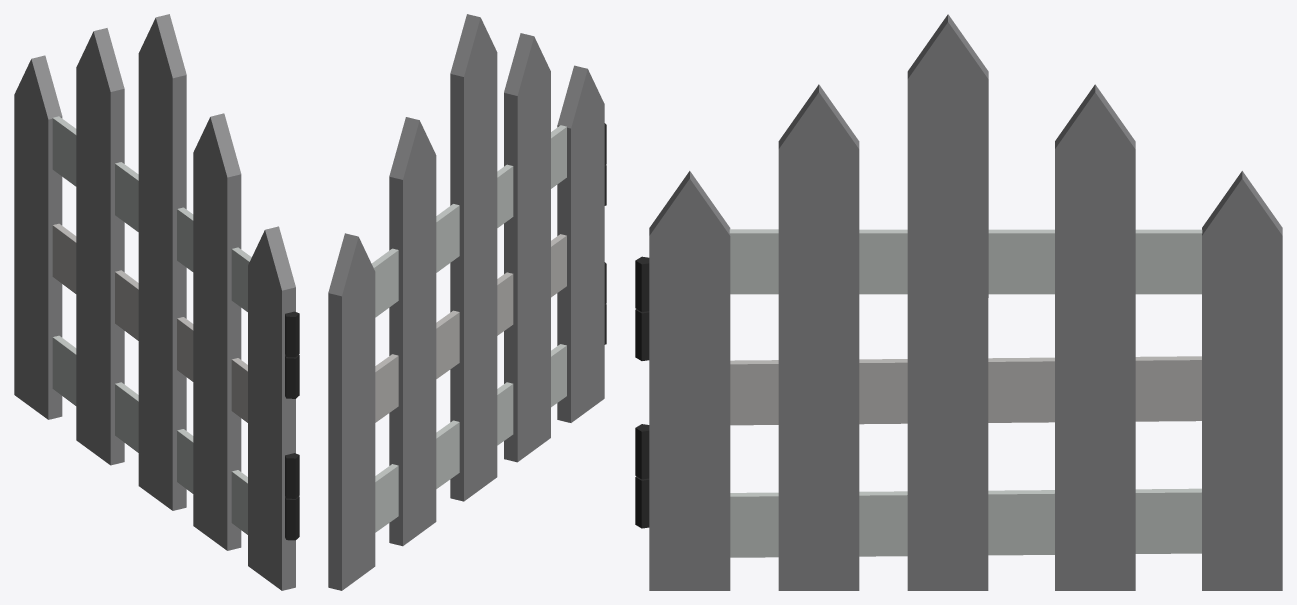
The model's file is FencePicketWhiteDoor_01.glb.
The picture shows the model from 3 angles, left to right: view 1: azimuth 30°, elevation 25°; view 2: azimuth 150°, elevation 25°; view 3: azimuth 270°, elevation 25°; orthographic projection. The views are drawn at different scales.
Parts seen in each view (by area): view 1: FencePicketWhiteDoor_01; view 2: FencePicketWhiteDoor_01; view 3: FencePicketWhiteDoor_01.
Part boxes in pixels (x1,y1,x2,y2): FencePicketWhiteDoor_01: (14,14,299,590); FencePicketWhiteDoor_01: (328,14,606,590); FencePicketWhiteDoor_01: (635,14,1282,590).
Size of what is drawn, in the model's own units: 0.0551 by 1.76 by 1.81.
Materials: 1 (1 with a texture image).
